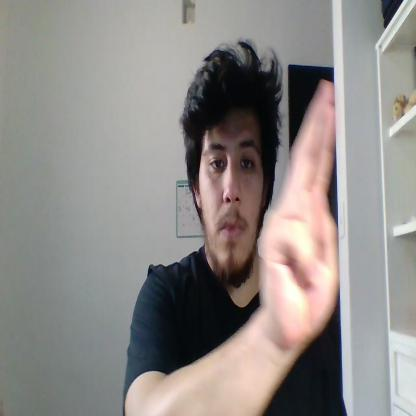R: (260, 80, 338, 347)
